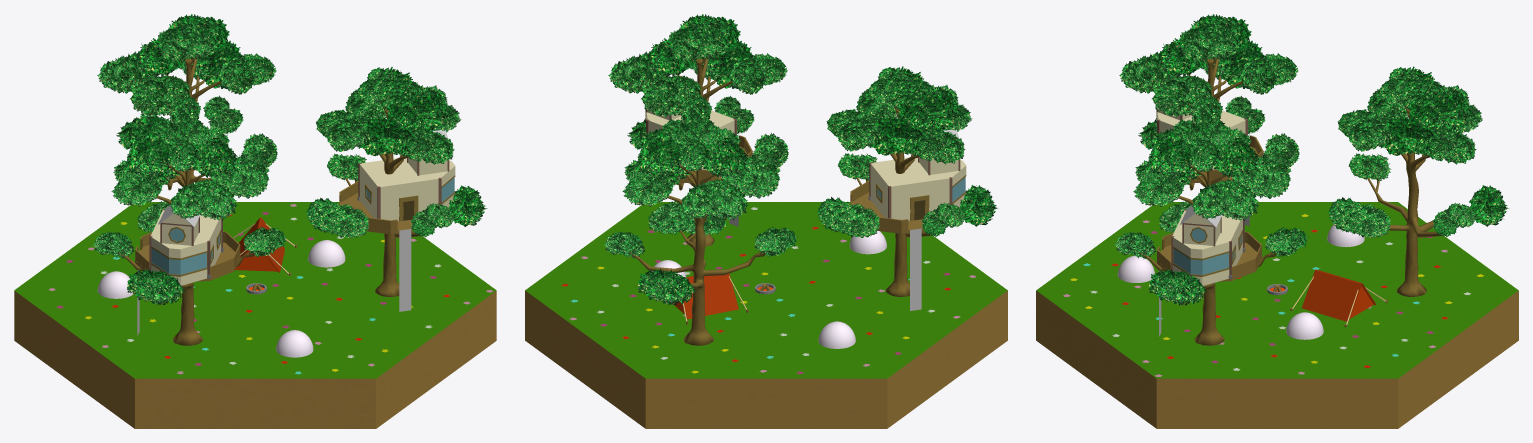
The model's file is Tuile_Foret_Village_Niv3.fbx.
3 views of the same model, side by side, from view 1: azimuth 30°, elevation 25°; view 2: azimuth 150°, elevation 25°; view 3: azimuth 270°, elevation 25° (orthographic).
Parts seen in each view (by area): view 1: Tuile, Arbres, maison.001, maison.002, Sphere, platforme.002, Tente.004, platforme.001, Plane.001, poutre.002; view 2: Tuile, Arbres, maison.002, Sphere, Tente.004, platforme.002, Plane.002, maison.001; view 3: Tuile, Arbres, maison.001, Tente.004, Sphere, platforme.001, maison.002, poutre.001.
Boxes of the visible parts, x1,y1,x2,y2 form: Tuile: (14,202,496,428); Arbres: (93,14,487,345); maison.001: (360,157,455,221); maison.002: (151,210,221,285); Sphere: (97,240,345,357); platforme.002: (135,231,240,281); Tente.004: (233,217,297,275); platforme.001: (339,181,439,234); Plane.001: (399,229,411,311); poutre.002: (149,209,223,278); Tuile: (525,202,1007,428); Arbres: (604,14,997,345); maison.002: (870,157,966,220); Sphere: (651,231,886,348); Tente.004: (673,269,748,324); platforme.002: (850,180,950,233); Plane.002: (910,228,921,310); maison.001: (645,109,734,169); Tuile: (1036,202,1518,428); Arbres: (1114,14,1508,345); maison.001: (1172,210,1242,285); Tente.004: (1290,269,1387,327); Sphere: (1117,224,1364,339); platforme.001: (1156,231,1262,281); maison.002: (1156,109,1245,169); poutre.001: (1170,209,1245,278).
Bounding box in the file's own units: 107 × 75.08 × 124.
